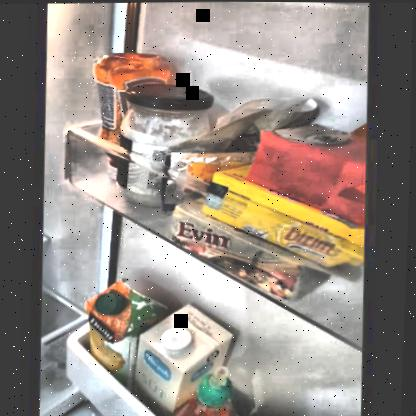butter: (164, 209, 359, 289)
milk: (142, 300, 213, 409)
